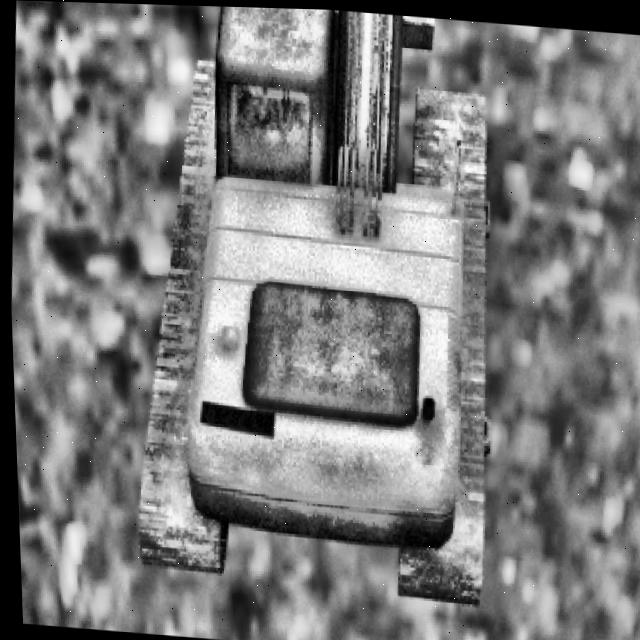excavator: (116, 3, 511, 602)
